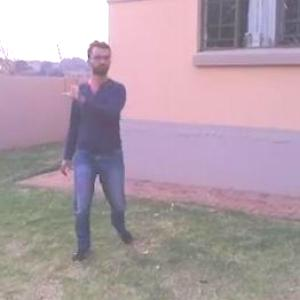follow_hand: (60, 68, 84, 100)
